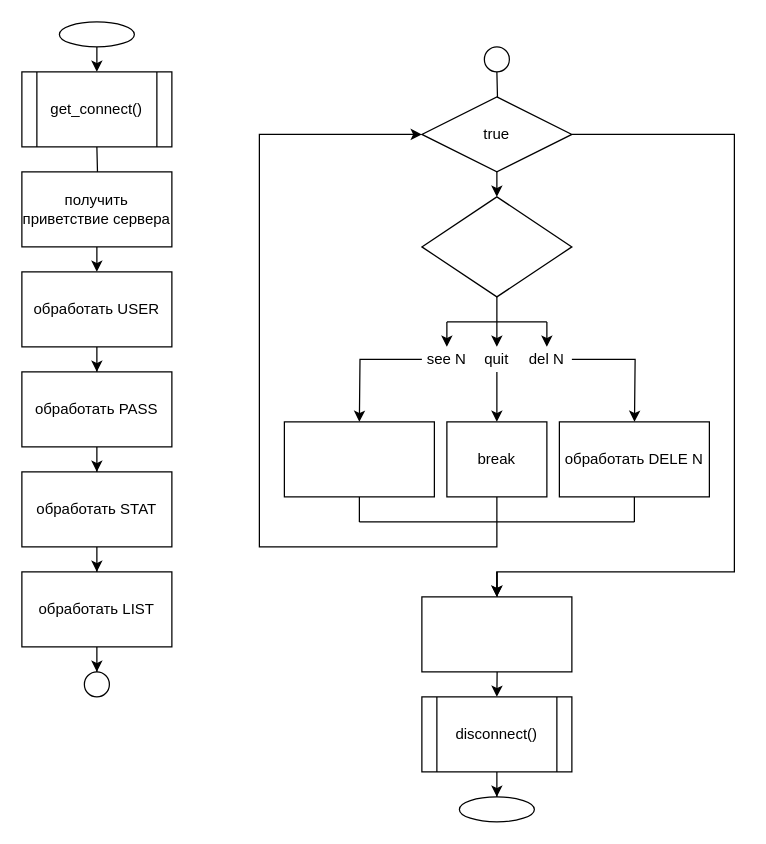
The diagram is 766 pixels wide and 844 high, and some of its shapes have lost their labels. Here are the shapes that lost their labels. From the top down, the centre of each, then its label:
At point 96,34: "начало".
At point 496,246: "selected_value".
At point 358,459: "обработать RETR N".
At point 496,634: "обработать QUIT".
At point 496,809: "конец".
